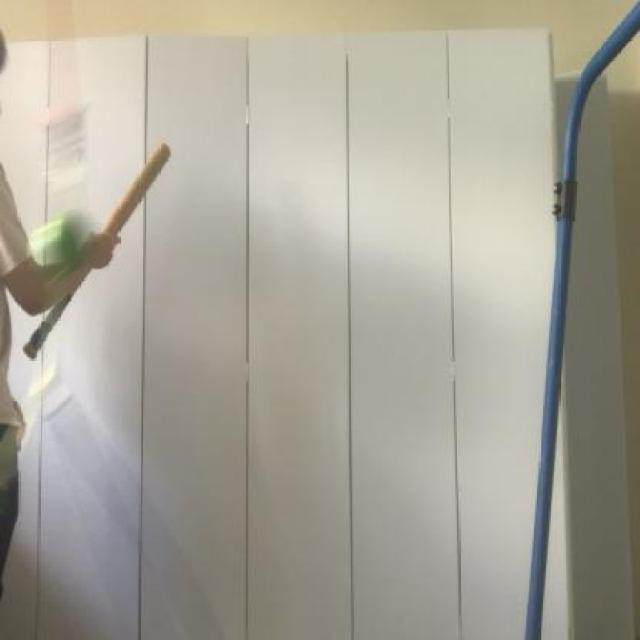baseball: (23, 205, 102, 281)
